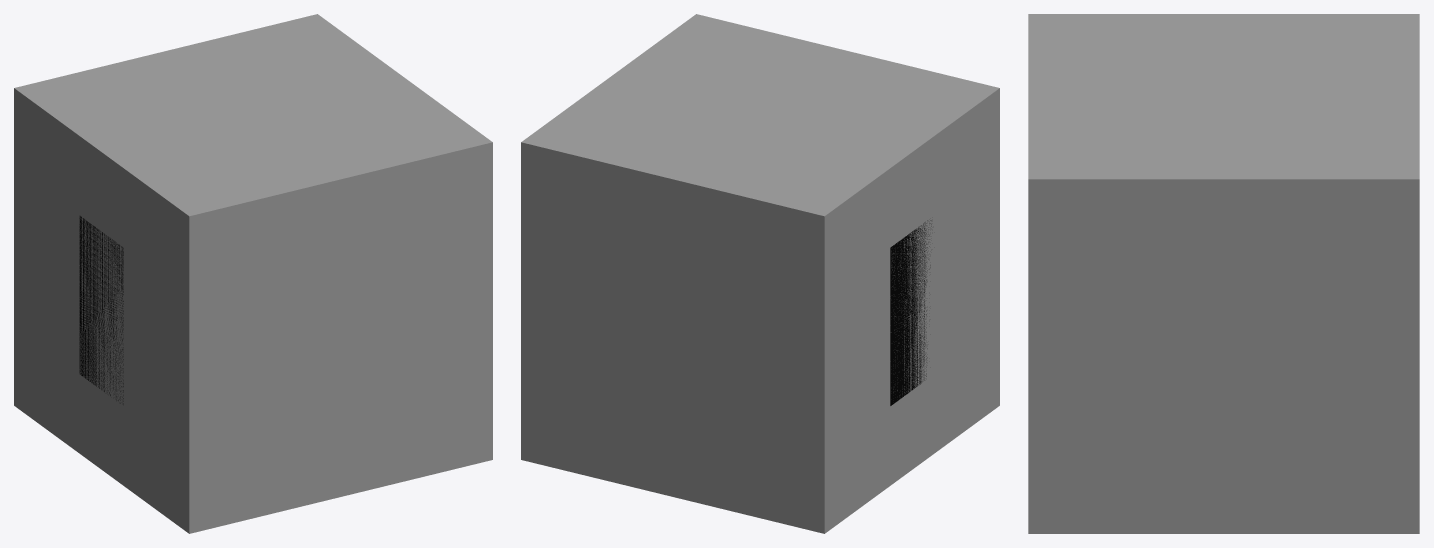
File: electricalsensor.obj
3 renders of one model, left to right at view 1: azimuth 30°, elevation 25°; view 2: azimuth 150°, elevation 25°; view 3: azimuth 270°, elevation 25°, orthographic. The views are drawn at different scales.
Parts seen in each view (by area): view 1: Minecraft_Block_Cube, Minecraft_2_Edge_Connectivity_Cube.002, main; view 2: Minecraft_Block_Cube, Minecraft_2_Edge_Connectivity_Cube.002, main; view 3: Minecraft_Block_Cube, Minecraft_2_Edge_Connectivity_Cube.002.
Boxes of the visible parts, x1=… form: Minecraft_Block_Cube: x1=15, y1=14, x2=492, y2=533; Minecraft_2_Edge_Connectivity_Cube.002: x1=14, y1=88, x2=252, y2=533; main: x1=79, y1=216, x2=123, y2=404; Minecraft_Block_Cube: x1=521, y1=14, x2=998, y2=533; Minecraft_2_Edge_Connectivity_Cube.002: x1=760, y1=88, x2=999, y2=533; main: x1=890, y1=220, x2=931, y2=405; Minecraft_Block_Cube: x1=1028, y1=14, x2=1419, y2=533; Minecraft_2_Edge_Connectivity_Cube.002: x1=1029, y1=14, x2=1418, y2=96.
Size of the model in its own units: 1 by 1 by 1.
2 materials, 1 textured.
